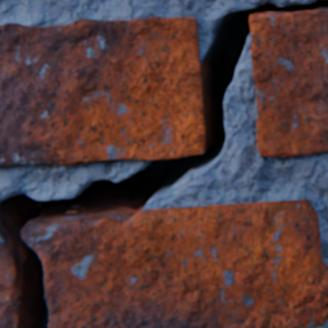brick: (0, 17, 205, 166), (250, 8, 327, 156)
broken_brick: (23, 199, 327, 327), (0, 235, 23, 327), (66, 208, 77, 212)
crack: (0, 0, 327, 327)
